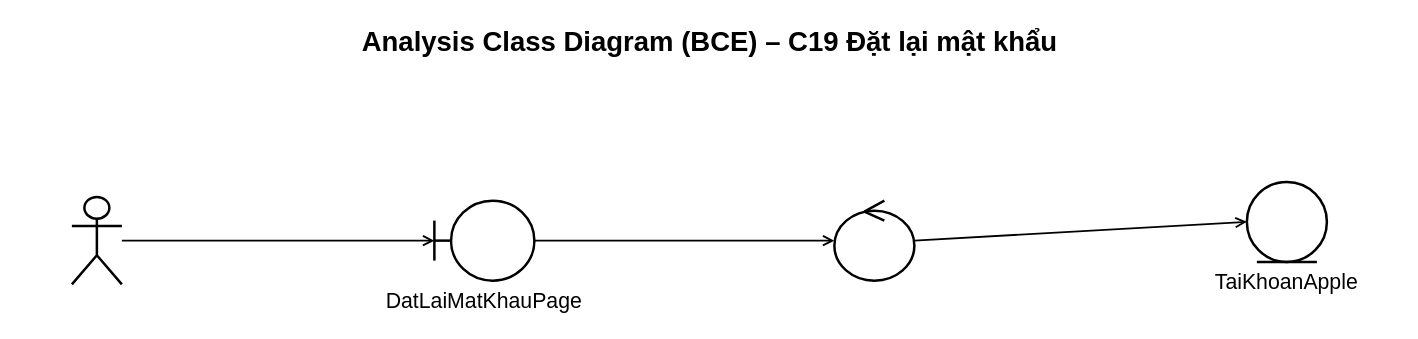
The diagram is 1418 pixels wide and 339 high, and some of its shapes have lost their labels. Here are the shapes that lost their labels. From the top down, the centre of each, then its label:
At (x=96, y=240): "Khách hàng".
At (x=873, y=240): "DatLaiMatKhauController".
